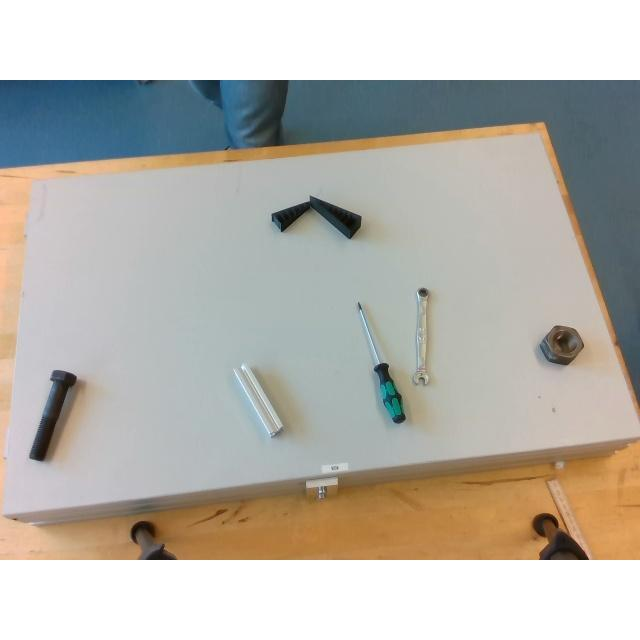F20_20_G: (234, 364, 282, 436)
M20_100: (27, 366, 78, 464)
M30: (539, 325, 583, 363)
Screwdriver: (358, 300, 402, 412)
Wrench: (412, 288, 432, 384)
